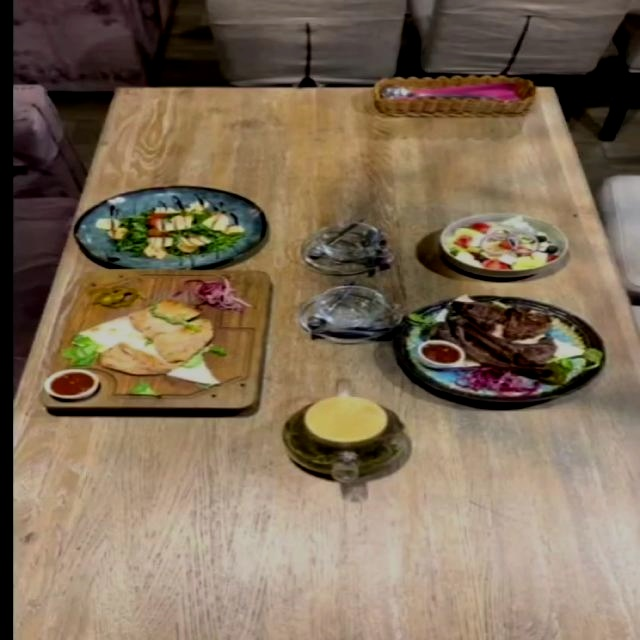meat: (36, 272, 272, 413), (390, 295, 606, 404)
salad: (72, 185, 264, 268), (438, 212, 570, 276)
tea: (280, 396, 409, 480)
